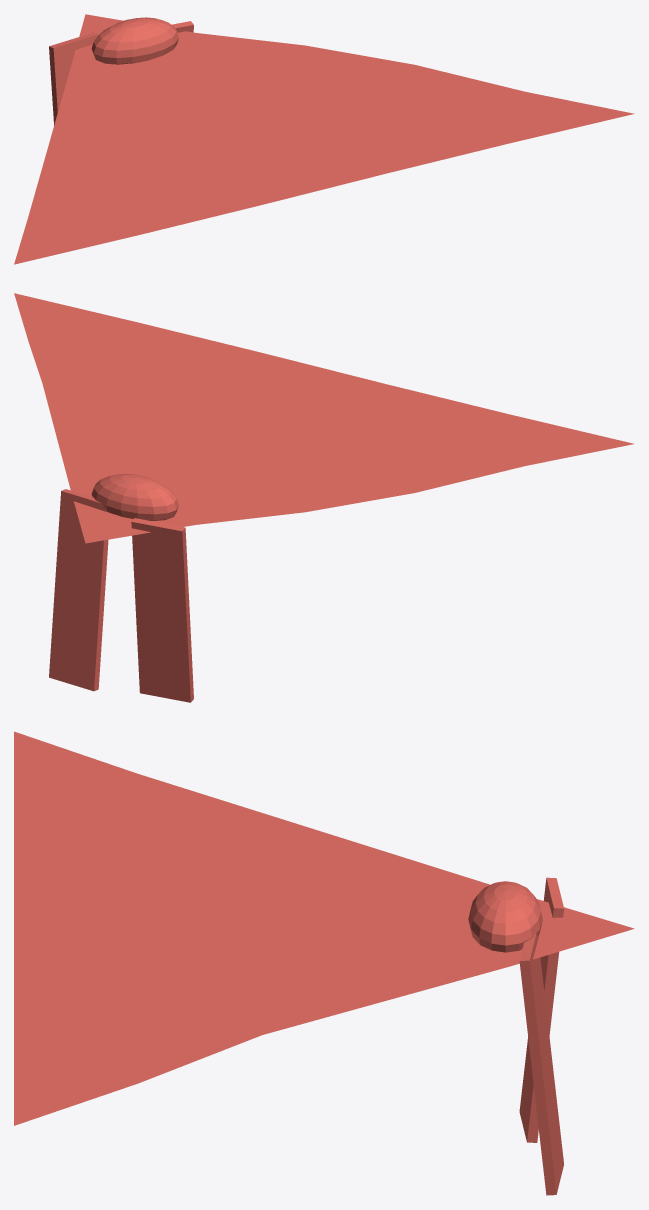
File: item_59_red_scarf.glb
3 views of the same model, one above another, from view 1: azimuth 30°, elevation 25°; view 2: azimuth 150°, elevation 25°; view 3: azimuth 270°, elevation 25° (orthographic). The views are drawn at different scales.
Parts seen in each view (by area): view 1: I59_Cloth, I59_Knot, I59_Tail0; view 2: I59_Cloth, I59_Tail0, I59_Tail1, I59_Knot; view 3: I59_Cloth, I59_Tail1, I59_Knot, I59_Tail0.
Boxes of the visible parts, x1,y1,x2,y2 form: I59_Cloth: [14, 14, 634, 264]; I59_Knot: [91, 17, 178, 64]; I59_Tail0: [49, 32, 98, 125]; I59_Cloth: [14, 293, 633, 543]; I59_Tail0: [131, 518, 193, 702]; I59_Tail1: [49, 489, 108, 691]; I59_Knot: [91, 473, 178, 520]; I59_Cloth: [14, 731, 634, 1125]; I59_Tail1: [519, 933, 563, 1195]; I59_Knot: [468, 881, 542, 952]; I59_Tail0: [519, 877, 564, 1142].
Size of the model in its own units: 0.18 by 0.056 by 0.12.
